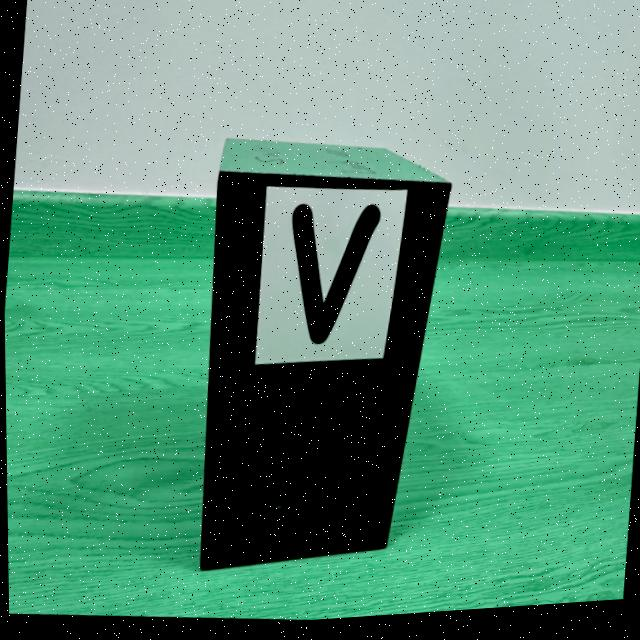V: (291, 207, 379, 348)
